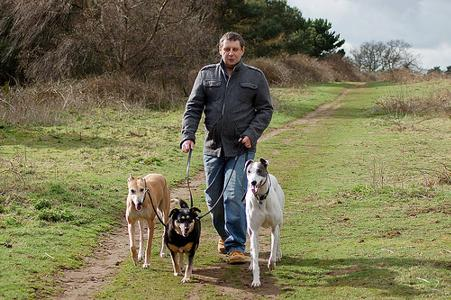person: (182, 32, 275, 263)
